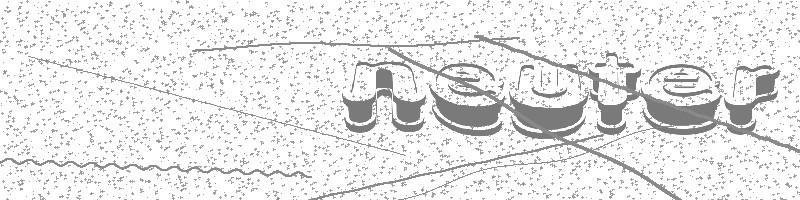e: (641, 63, 722, 135), (429, 62, 505, 137)
n: (343, 60, 428, 133)
r: (723, 63, 781, 135)
t: (589, 52, 642, 135)
u: (509, 62, 589, 140)
